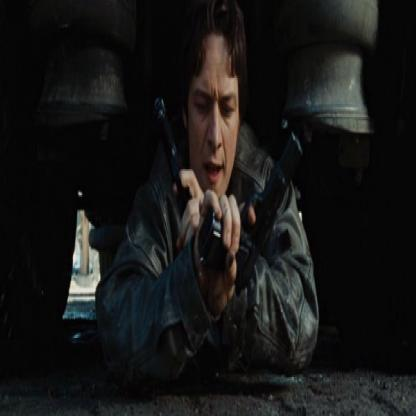Guns: (197, 123, 302, 299), (152, 88, 191, 223)
